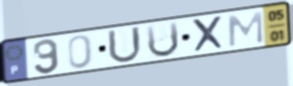0: (66, 33, 95, 71)
9: (31, 37, 62, 76)
M: (227, 10, 266, 49)
U: (106, 25, 145, 65), (144, 19, 181, 59)
X: (189, 14, 229, 54)
